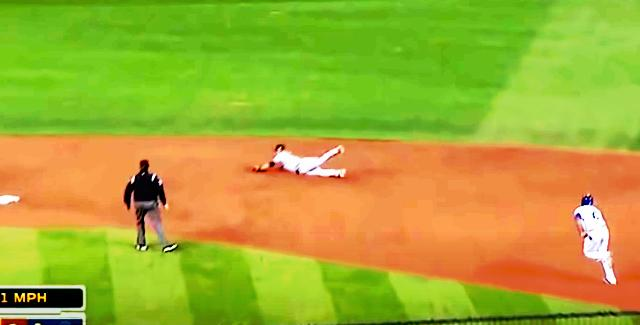jatuh: (247, 135, 356, 190)
